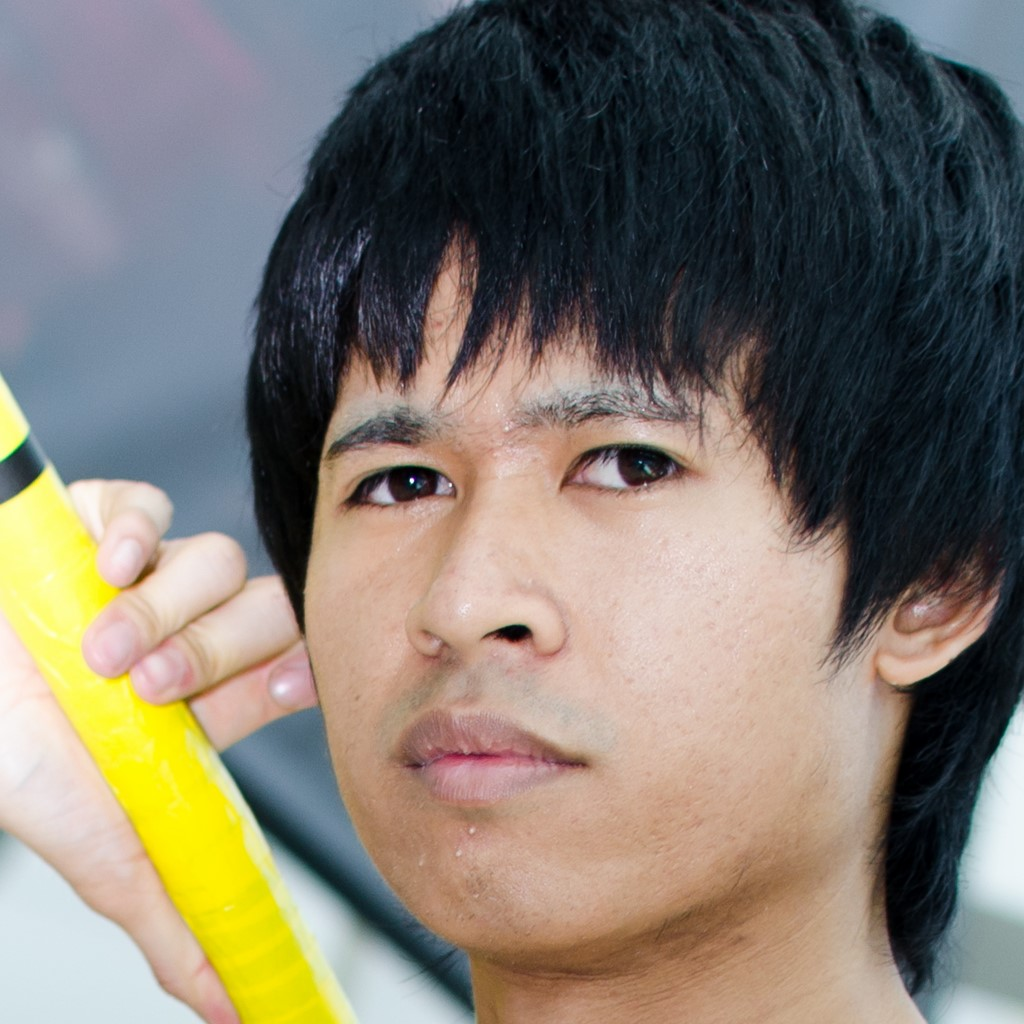sin_mascara: (310, 234, 883, 949)
